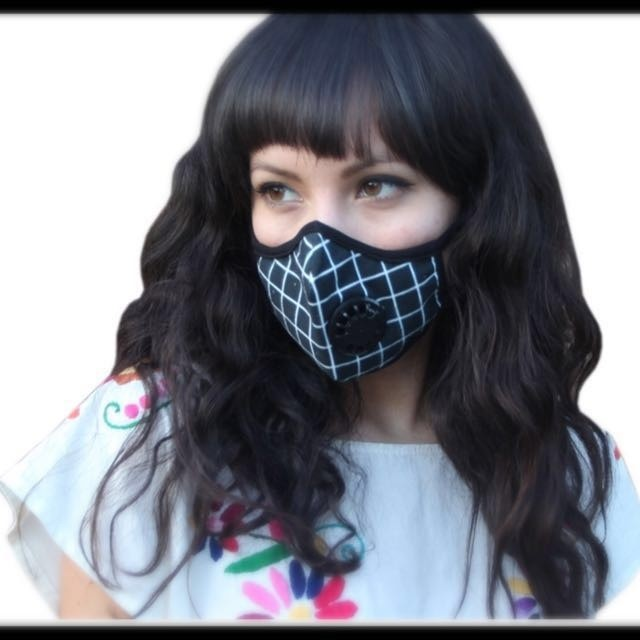face_with_mask: (219, 10, 562, 390)
